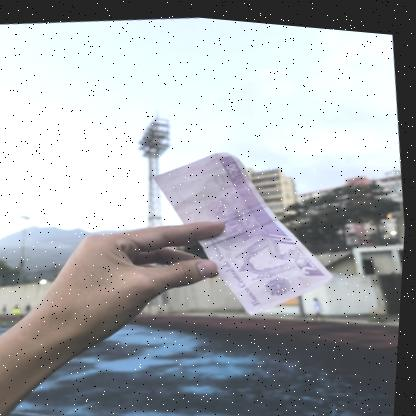one_hundred-back-vef: (143, 128, 346, 327)
